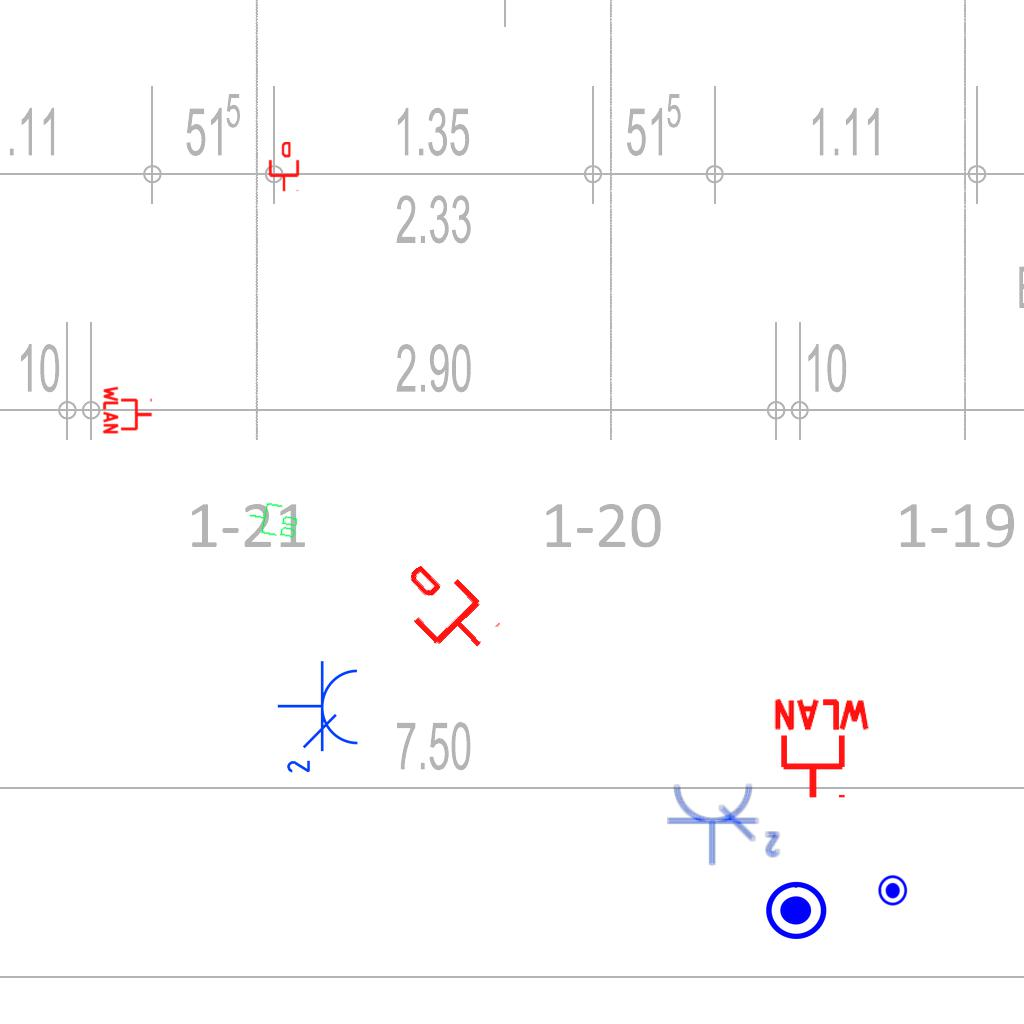Datenanschluss_einfach: (385, 550, 506, 670), (267, 142, 301, 192)
Datenanschluss_zweifach: (245, 498, 302, 542)
Schukosteckdose_mehrfach: (665, 779, 786, 867), (276, 659, 364, 780)
Taster: (763, 875, 829, 941), (875, 874, 908, 907)
WLAN: (770, 697, 874, 802), (102, 384, 154, 436)
